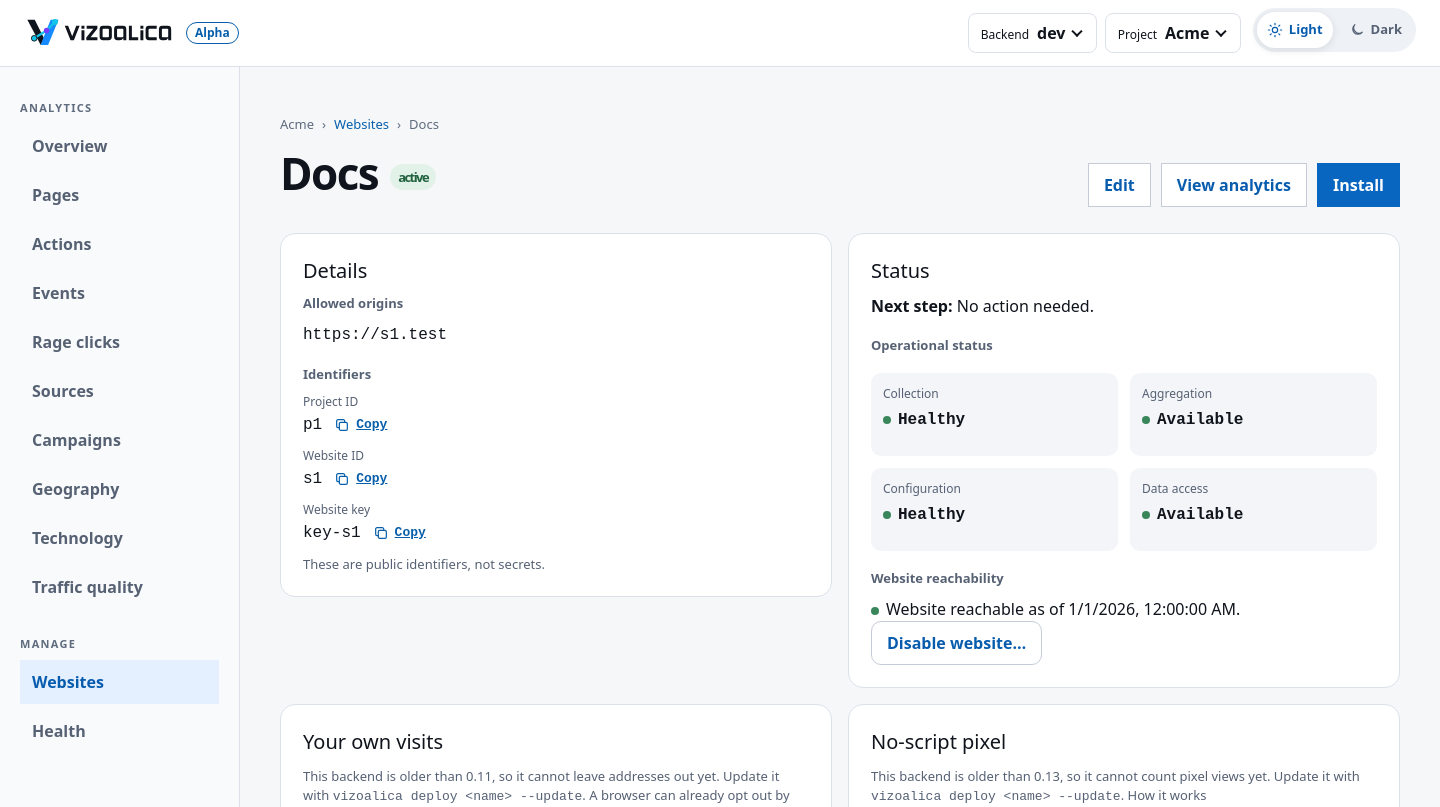
Scenario: website page › opens Analytics with this website as the scope
Click the link "View analytics". click: (1234, 185)
box: x1=1161 y1=163 x2=1307 y2=207
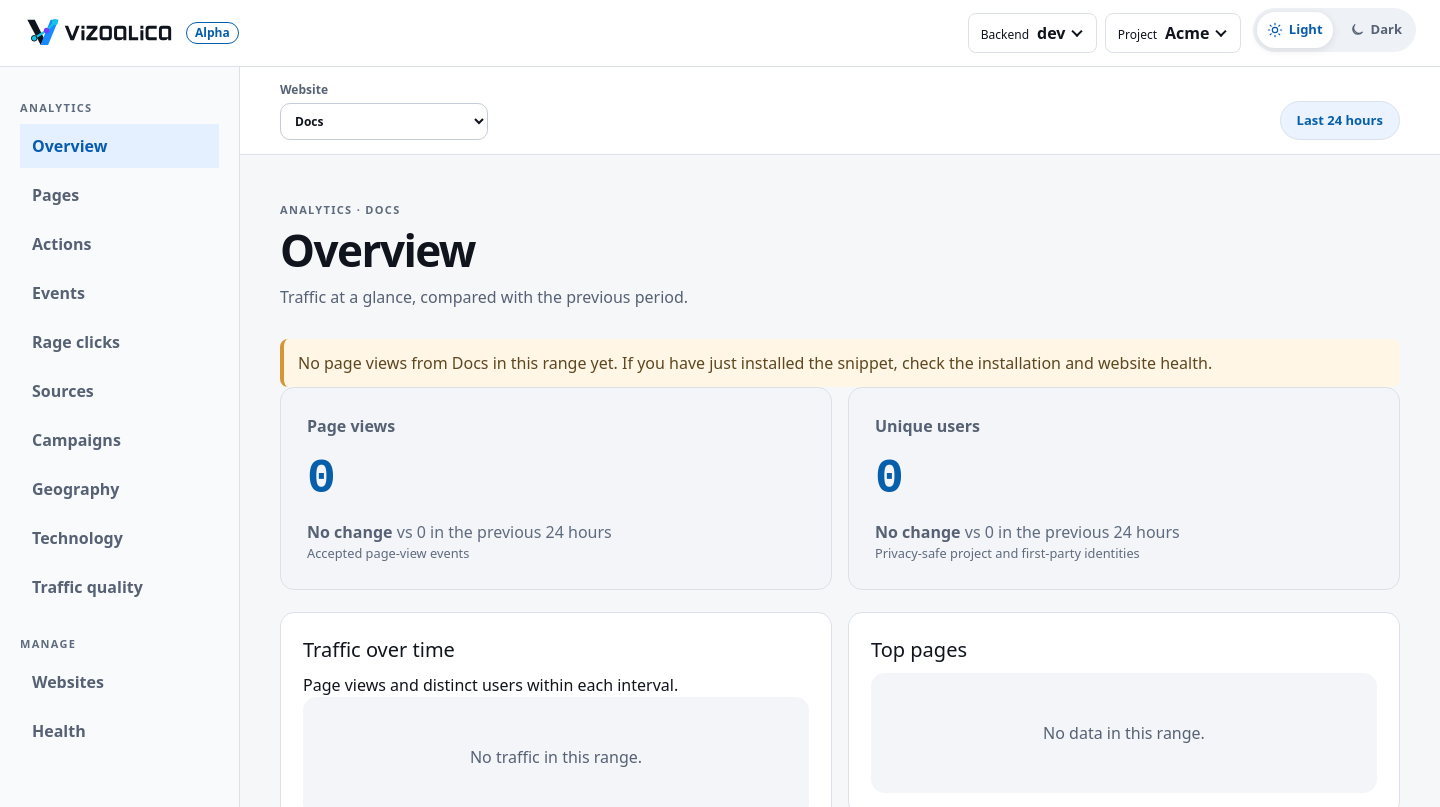
Expected: the dropdown labelled "Website" shows "Docs", x1=280 y1=103 x2=488 y2=140
